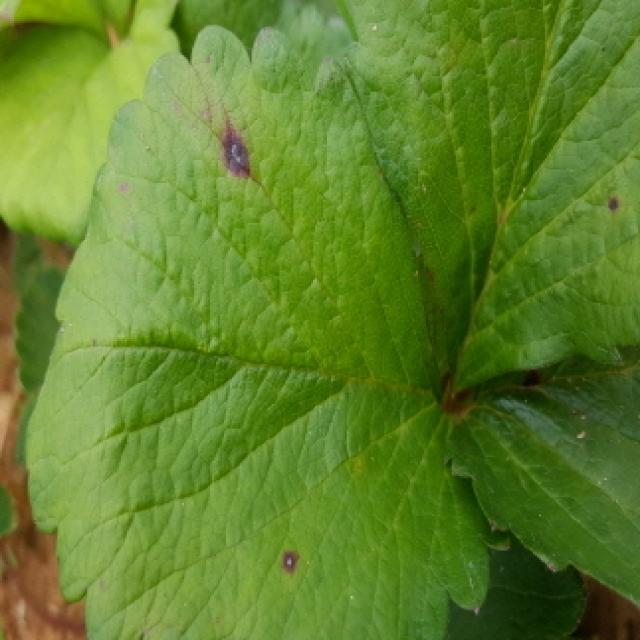Leaf Spot: (23, 24, 512, 640), (342, 0, 640, 401), (441, 347, 640, 616)
